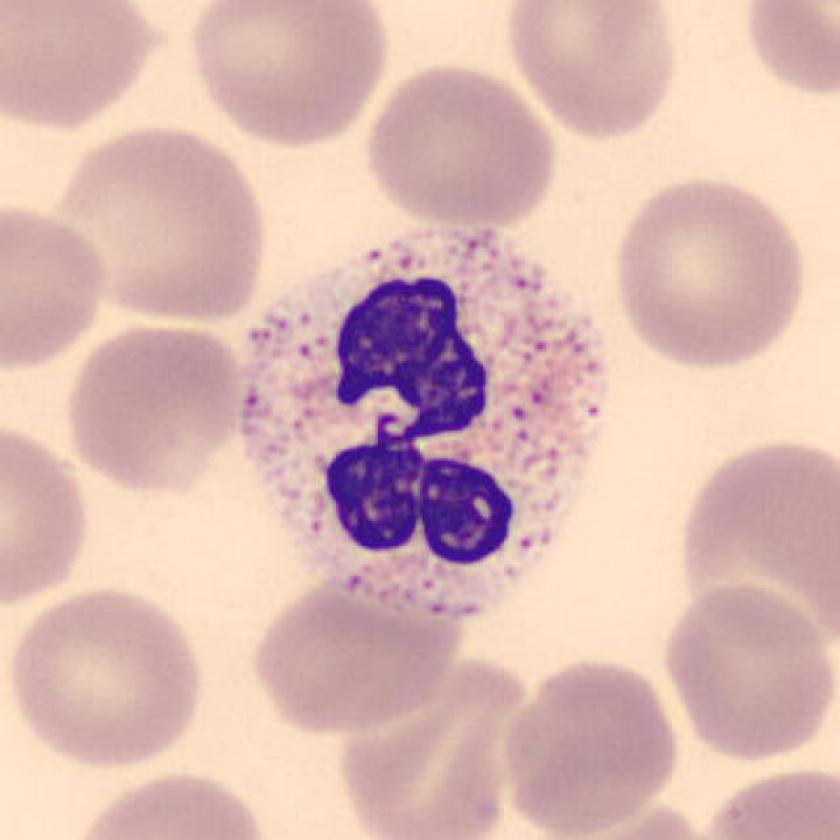neutrophil: (244, 232, 597, 606)
